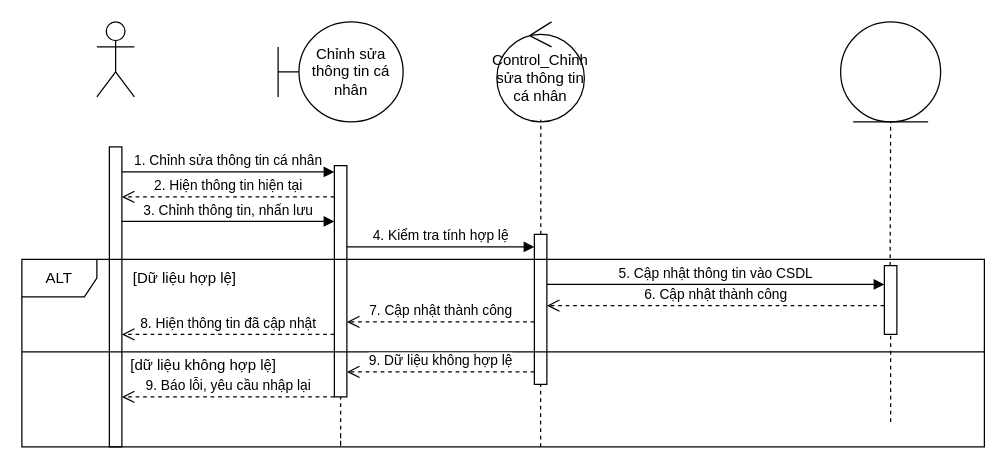
This 1006x470 diagram has some shape labels left out. Here are the shapes that lost their labels. From the top down, the centre of each, then its label:
point 115,59: Khách hàng
point 890,71: CSDL_User
